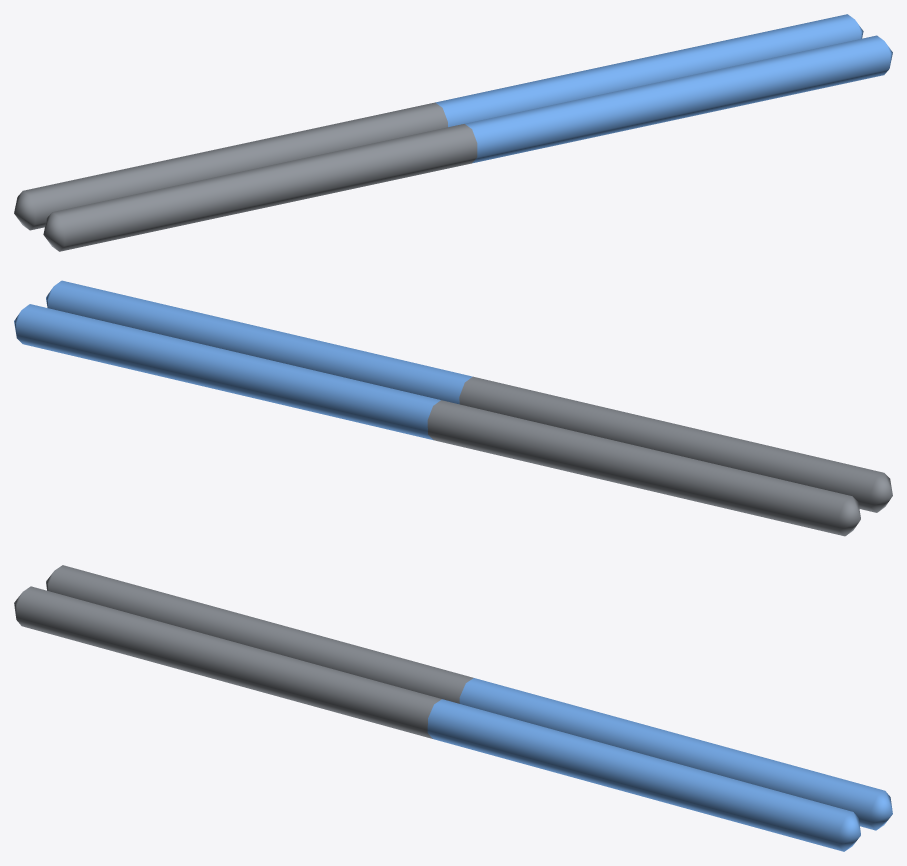
File: pi_napqi_C4N.glb
The picture shows the model from 3 angles, top to bottom: view 1: azimuth 30°, elevation 25°; view 2: azimuth 150°, elevation 25°; view 3: azimuth 330°, elevation 25°; orthographic projection.
Visible parts, largest first — view 1: node-geom14, node-geom13, node-geom16, node-geom15; view 2: node-geom16, node-geom15, node-geom14, node-geom13; view 3: node-geom13, node-geom14, node-geom15, node-geom16.
Part boxes in pixels (<box>): node-geom14: <box>43,124,477,251</box>; node-geom13: <box>465,35,892,163</box>; node-geom16: <box>14,102,447,230</box>; node-geom15: <box>435,14,863,127</box>; node-geom16: <box>427,400,860,536</box>; node-geom15: <box>14,304,440,440</box>; node-geom14: <box>459,376,892,512</box>; node-geom13: <box>46,280,472,404</box>; node-geom13: <box>427,699,860,851</box>; node-geom14: <box>14,586,441,738</box>; node-geom15: <box>459,678,892,830</box>; node-geom16: <box>46,565,473,703</box>.
Size of the model in its own units: 1.7 by 0.0997 by 0.2011.
